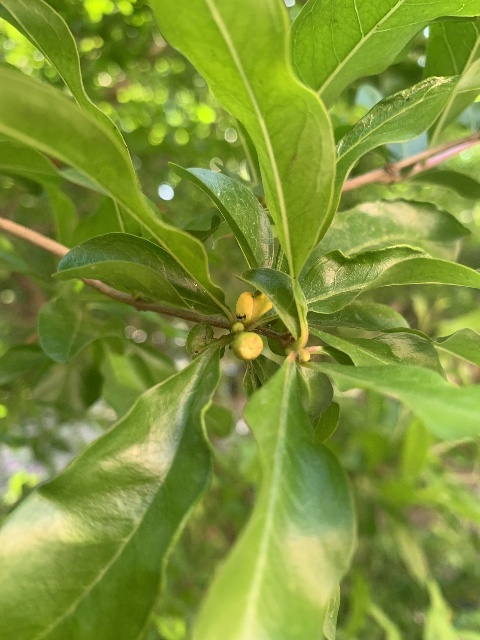bud: (232, 331, 263, 360)
